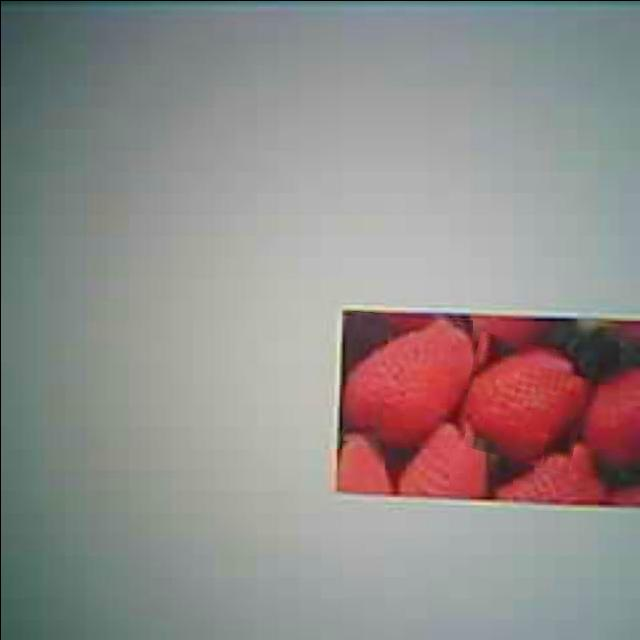strawberry: (458, 336, 590, 466), (344, 313, 470, 447)
